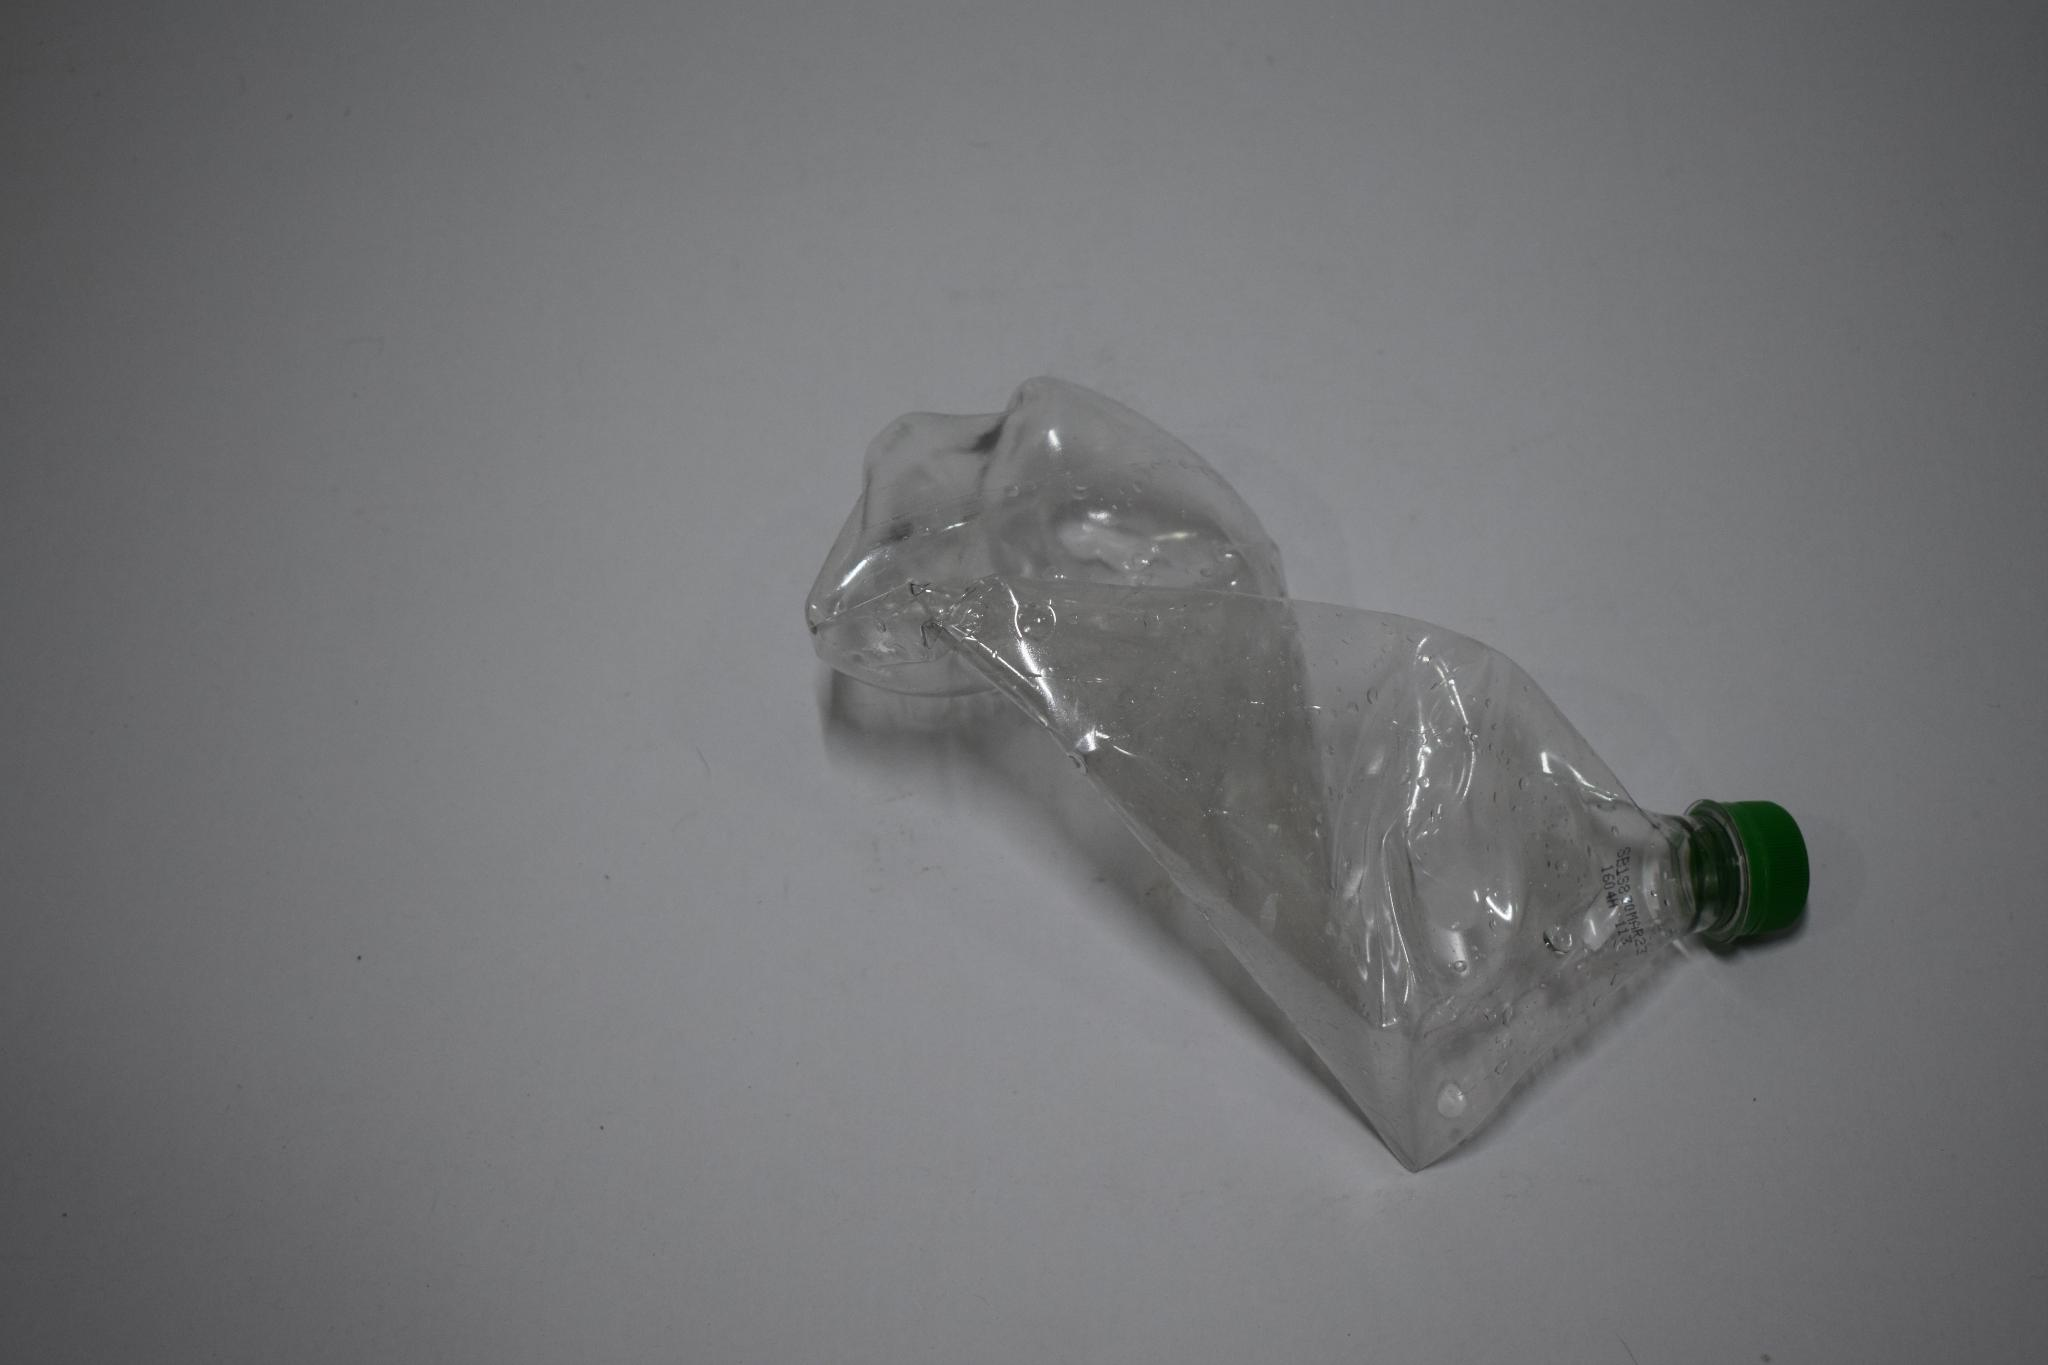bottle: (804, 364, 1821, 1193)
